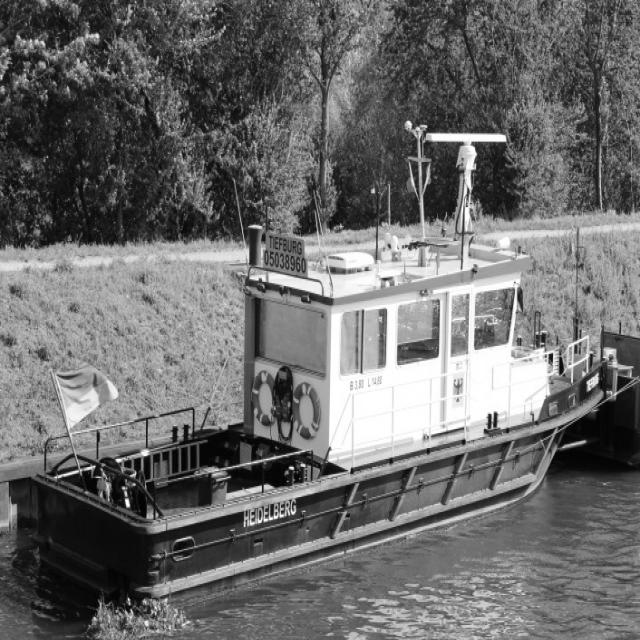tugboat: (33, 128, 623, 630)
